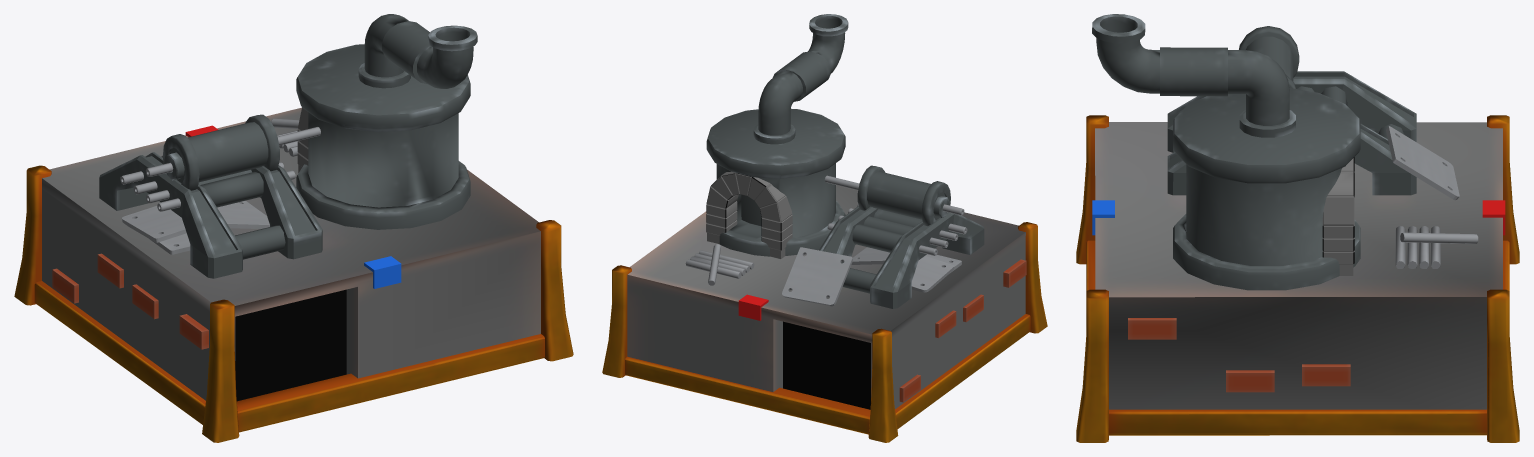
3 renders of one model, left to right at view 1: azimuth 30°, elevation 25°; view 2: azimuth 150°, elevation 25°; view 3: azimuth 270°, elevation 25°, orthographic. The views are drawn at different scales.
Visible parts, largest first — view 1: Cylinder.047_Baked; view 2: Cylinder.047_Baked; view 3: Cylinder.047_Baked.
Part boxes in pixels (x1,y1,x2,y2): Cylinder.047_Baked: (14, 14, 573, 442); Cylinder.047_Baked: (602, 14, 1047, 442); Cylinder.047_Baked: (1076, 14, 1519, 442).
Size of the model in its own units: 200 by 177 by 195.
1 material, 1 textured.
